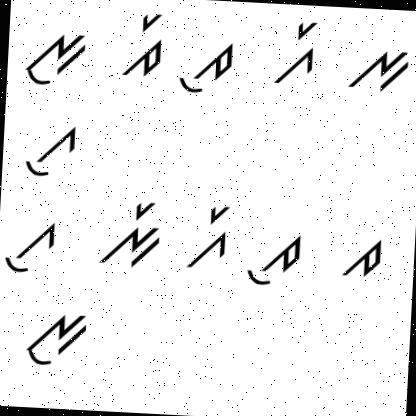gar: (264, 17, 322, 92), (182, 197, 236, 273)
gaw: (18, 119, 82, 182), (0, 217, 65, 278)
nga: (340, 40, 412, 98)
ngar: (98, 194, 162, 272)
ngaw: (22, 22, 90, 92), (21, 302, 89, 372)
ta: (337, 228, 385, 289)
tar: (118, 11, 166, 80)
taw: (246, 228, 308, 294), (176, 35, 236, 97)
